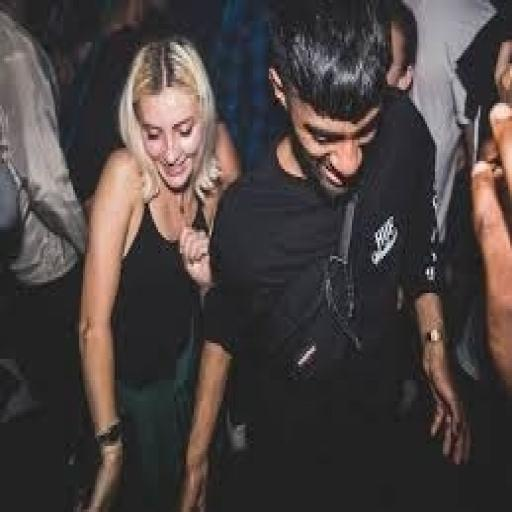dancing: (171, 0, 472, 509), (73, 34, 243, 510)
